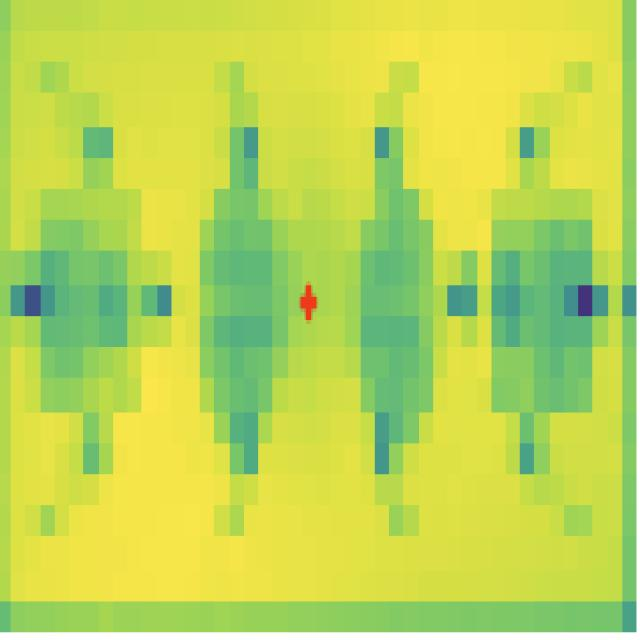Concrete: (359, 187, 436, 421)
Glass: (200, 190, 290, 413)
Metal: (490, 187, 593, 413)
Wood: (41, 188, 142, 414)
